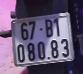0: (16, 43, 27, 63), (37, 40, 47, 60)
1: (53, 18, 63, 38)
3: (59, 38, 71, 58)
6: (19, 22, 30, 41)
7: (28, 20, 39, 41)
8: (49, 39, 61, 59), (26, 42, 36, 62)
B: (44, 19, 55, 39)
